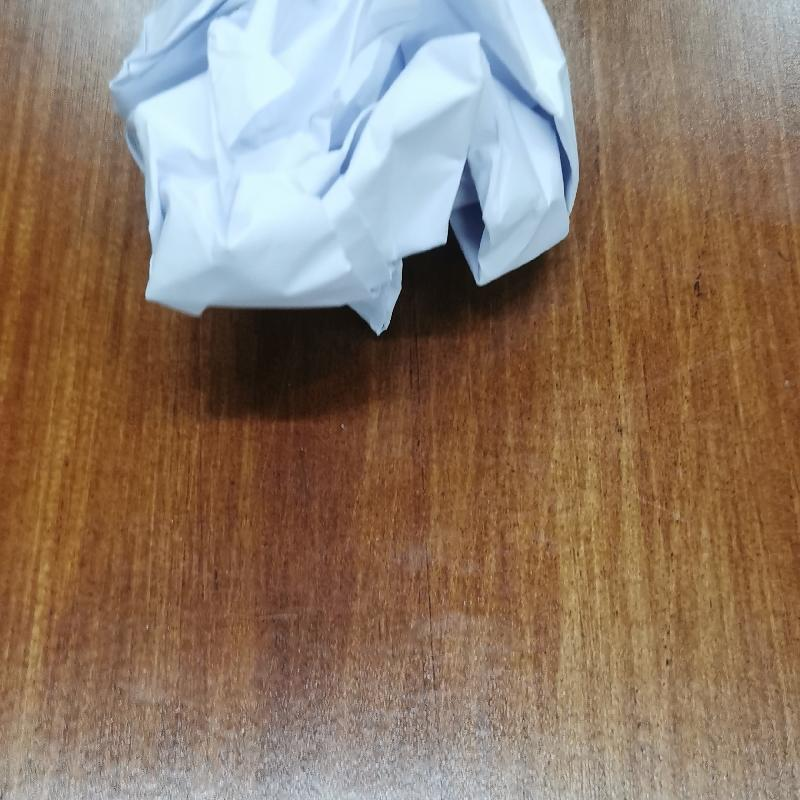spitball: (99, 2, 585, 334)
